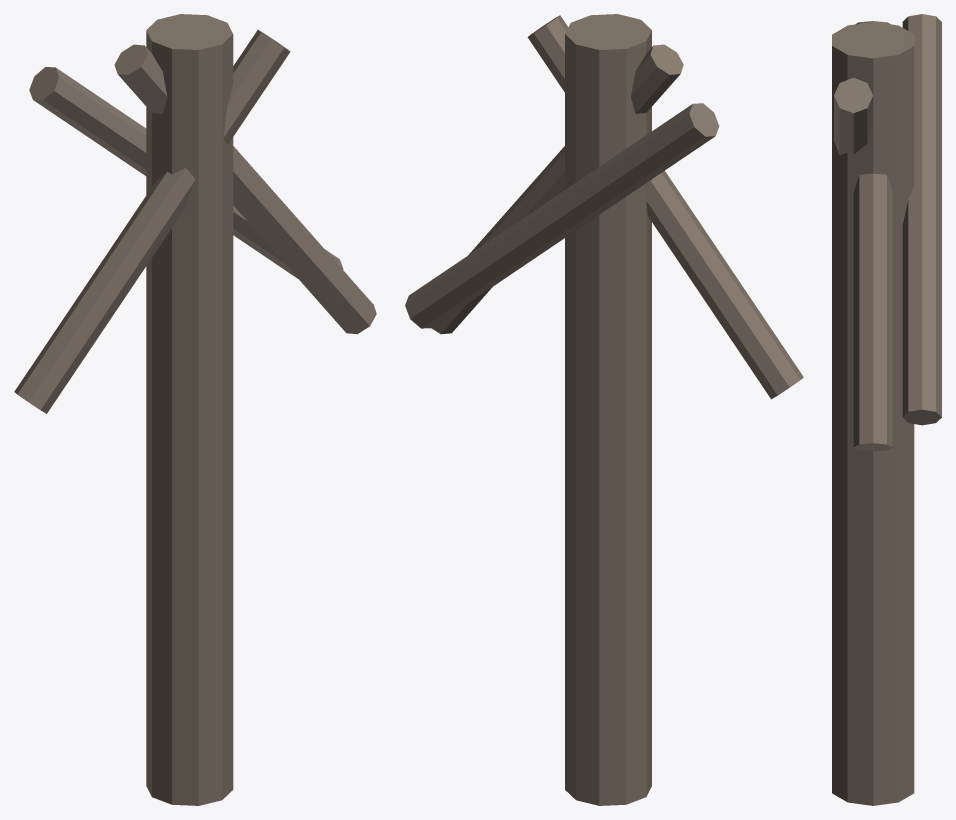
The model's file is dead_tree.glb.
The picture shows the model from 3 angles, left to right: view 1: azimuth 30°, elevation 25°; view 2: azimuth 150°, elevation 25°; view 3: azimuth 270°, elevation 25°; orthographic projection.
Parts seen in each view (by area): view 1: trunk_0, branch_2, branch_1, branch_3; view 2: trunk_0, branch_3, branch_2, branch_1; view 3: trunk_0, branch_3, branch_1, branch_2.
Part boxes in pixels (<box>): trunk_0: <box>146,14,233,805</box>; branch_2: <box>14,30,290,413</box>; branch_1: <box>114,44,376,334</box>; branch_3: <box>29,67,343,278</box>; trunk_0: <box>565,14,651,805</box>; branch_3: <box>405,103,719,328</box>; branch_2: <box>527,15,803,399</box>; branch_1: <box>431,44,683,334</box>; trunk_0: <box>832,22,914,805</box>; branch_3: <box>902,14,941,425</box>; branch_1: <box>853,21,892,451</box>; branch_2: <box>834,78,873,154</box>.
Bounding box in the file's own units: 2.13 × 4.2 × 0.5592.
